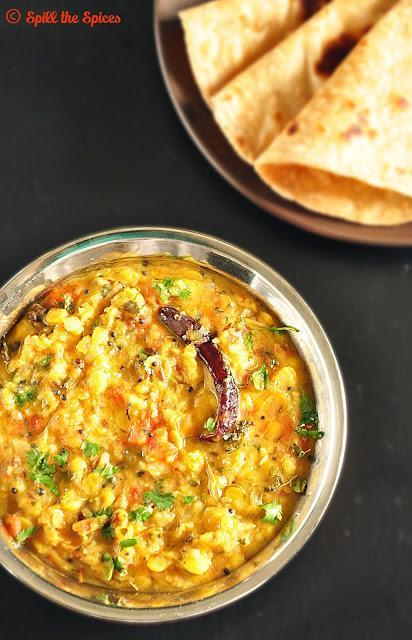dal: (0, 221, 325, 625)
roti: (163, 5, 412, 220)
